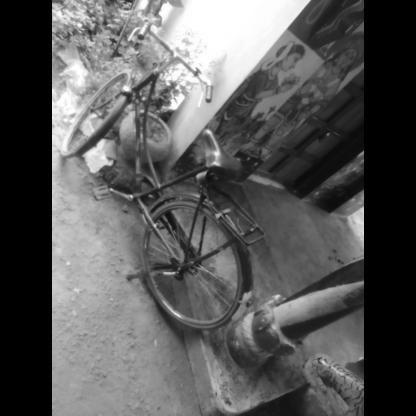Bicycle: (97, 33, 347, 353)
